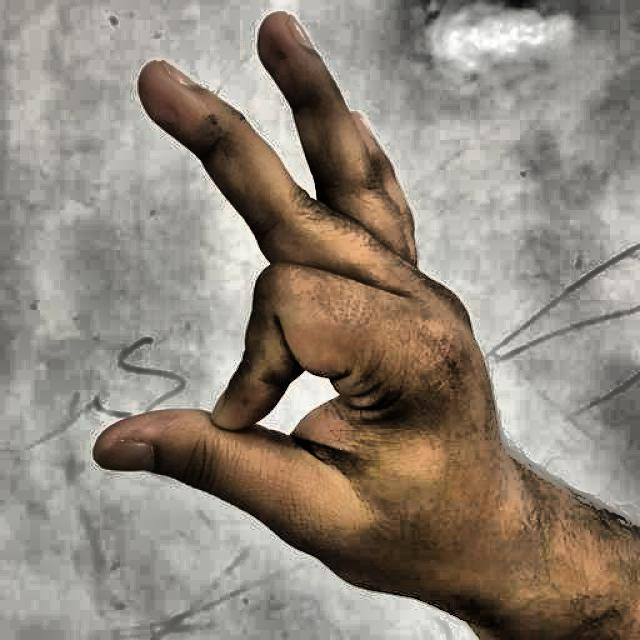Uo: (41, 1, 584, 626)
